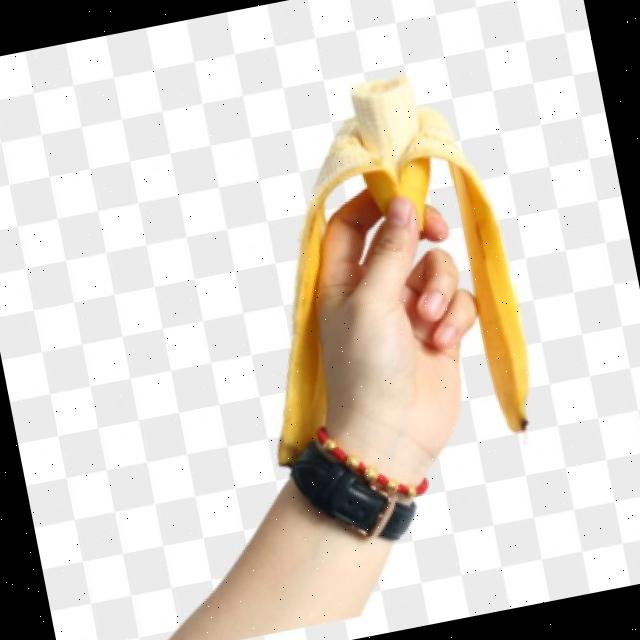banana-peel: (209, 61, 543, 482)
